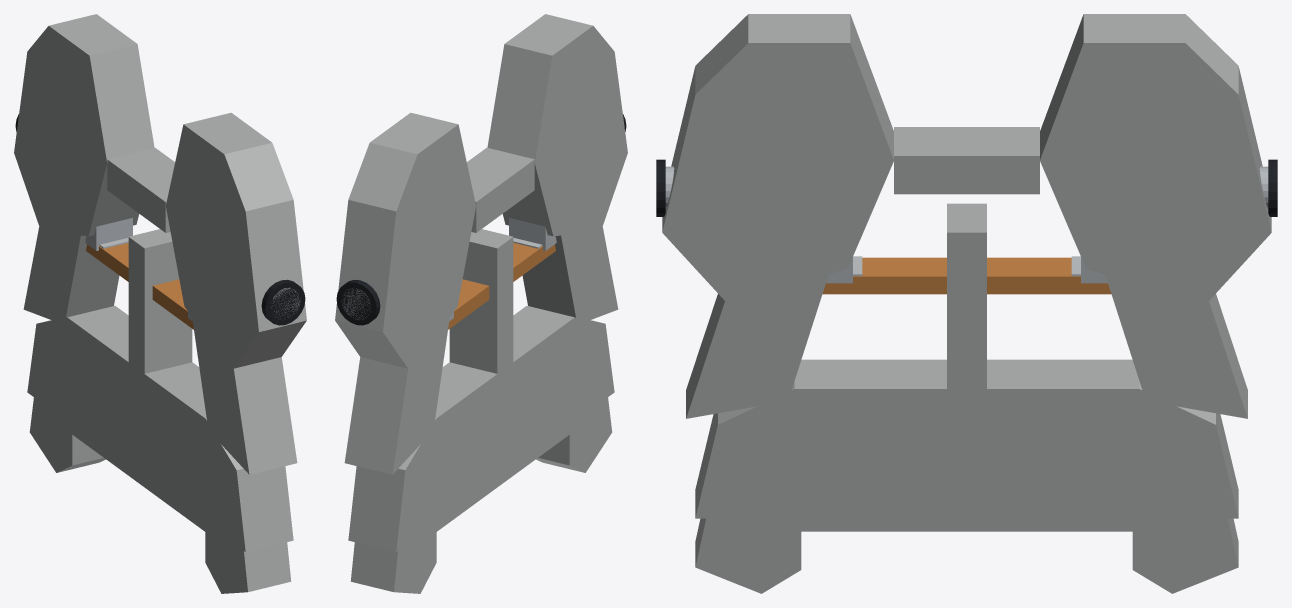
3 renders of one model, left to right at view 1: azimuth 30°, elevation 25°; view 2: azimuth 150°, elevation 25°; view 3: azimuth 270°, elevation 25°, orthographic. The views are drawn at different scales.
Visible parts, largest first — view 1: profile:ut25, frame:ut25-left-tower, frame:ut25-right-tower, rib:ut25-left, center-web:ut25, rib:ut25-right, din:ut25-foot, marker-channel:ut25, din:ut25-latch, bridge:ut25-copper, entry-well:1, din:ut25-crown (+1 smaller); view 2: profile:ut25, frame:ut25-right-tower, frame:ut25-left-tower, rib:ut25-right, center-web:ut25, rib:ut25-left, din:ut25-latch, marker-channel:ut25, din:ut25-foot, bridge:ut25-copper, entry-well:2, din:ut25-crown (+2 smaller); view 3: profile:ut25, frame:ut25-left-tower, frame:ut25-right-tower, rib:ut25-left, rib:ut25-right, marker-channel:ut25, center-web:ut25, bridge:ut25-copper, din:ut25-foot, din:ut25-latch, din:ut25-crown.
Part boxes in pixels (<box>): profile:ut25: <box>27,306,293,551</box>; frame:ut25-left-tower: <box>166,112,306,370</box>; frame:ut25-right-tower: <box>14,14,154,236</box>; rib:ut25-left: <box>190,301,297,474</box>; center-web:ut25: <box>128,229,192,391</box>; rib:ut25-right: <box>23,223,119,324</box>; din:ut25-foot: <box>205,525,291,593</box>; marker-channel:ut25: <box>107,147,174,232</box>; din:ut25-latch: <box>29,397,105,472</box>; bridge:ut25-copper: <box>86,243,193,329</box>; entry-well:1: <box>261,279,305,325</box>; din:ut25-crown: <box>69,424,207,533</box>; profile:ut25: <box>348,306,614,551</box>; frame:ut25-right-tower: <box>335,112,475,370</box>; frame:ut25-left-tower: <box>487,14,627,236</box>; rib:ut25-right: <box>344,301,451,474</box>; center-web:ut25: <box>449,229,513,388</box>; rib:ut25-left: <box>522,227,618,320</box>; din:ut25-latch: <box>350,525,436,593</box>; marker-channel:ut25: <box>467,147,534,232</box>; din:ut25-foot: <box>536,397,612,472</box>; bridge:ut25-copper: <box>448,243,555,329</box>; entry-well:2: <box>336,279,380,325</box>; din:ut25-crown: <box>434,424,572,533</box>; profile:ut25: <box>695,359,1238,518</box>; frame:ut25-left-tower: <box>662,14,893,303</box>; frame:ut25-right-tower: <box>1040,14,1271,304</box>; rib:ut25-left: <box>686,257,834,418</box>; rib:ut25-right: <box>1099,257,1247,418</box>; marker-channel:ut25: <box>894,127,1039,194</box>; center-web:ut25: <box>947,203,986,412</box>; bridge:ut25-copper: <box>822,257,1111,294</box>; din:ut25-foot: <box>695,518,801,593</box>; din:ut25-latch: <box>1132,518,1238,593</box>; din:ut25-crown: <box>801,518,1132,531</box>.
Bounding box in the file's own units: 0.0052 × 0.046 × 0.0469.
